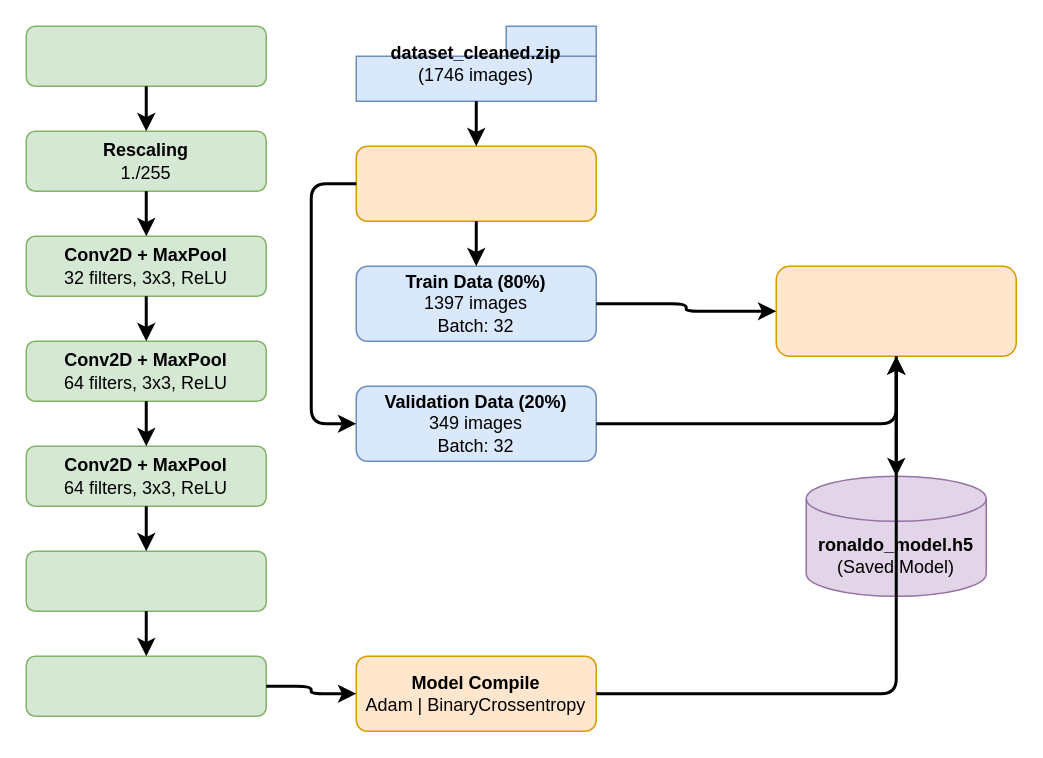
This 1043x758 diagram has some shape labels left out. Here are the shapes that lost their labels. From the top down, the centre of each, then its label:
point 145,55: InputLayer 128x128x3
point 475,183: Data Splitting image_dataset_from_directory
point 895,310: Training Loop (model.fit) 10 Epochs
point 145,580: Flatten + Dense 64 units, ReLU
point 145,685: Output Dense 1 unit, Sigmoid
